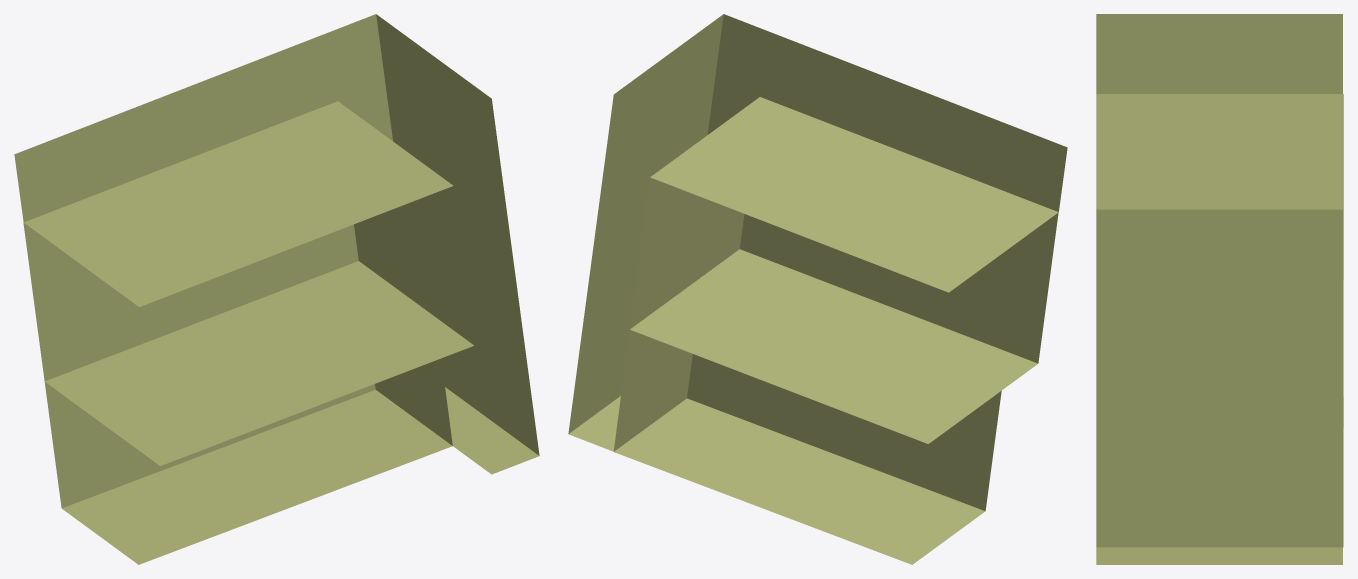
3 views of the same model, side by side, from view 1: azimuth 30°, elevation 25°; view 2: azimuth 150°, elevation 25°; view 3: azimuth 270°, elevation 25° (orthographic). The views are drawn at different scales.
Visible parts, largest first — view 1: 0_1_3_2_1_1_1_0_2; view 2: 0_1_3_2_1_1_1_0_2; view 3: 0_1_3_2_1_1_1_0_2.
Boxes of the visible parts, x1,y1,x2,y2 form: 0_1_3_2_1_1_1_0_2: [14, 14, 539, 564]; 0_1_3_2_1_1_1_0_2: [568, 14, 1067, 564]; 0_1_3_2_1_1_1_0_2: [1096, 14, 1343, 564].
Size of the model in its own units: 18.39 by 17.94 by 9.02.
